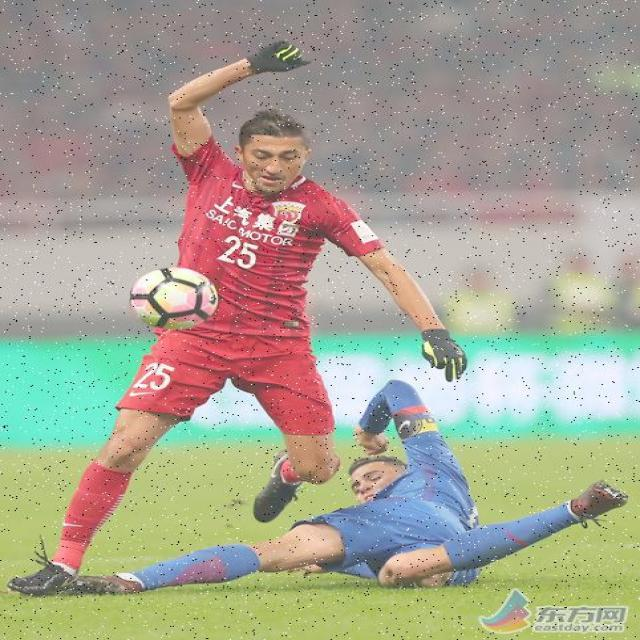fall: (91, 418, 638, 602)
